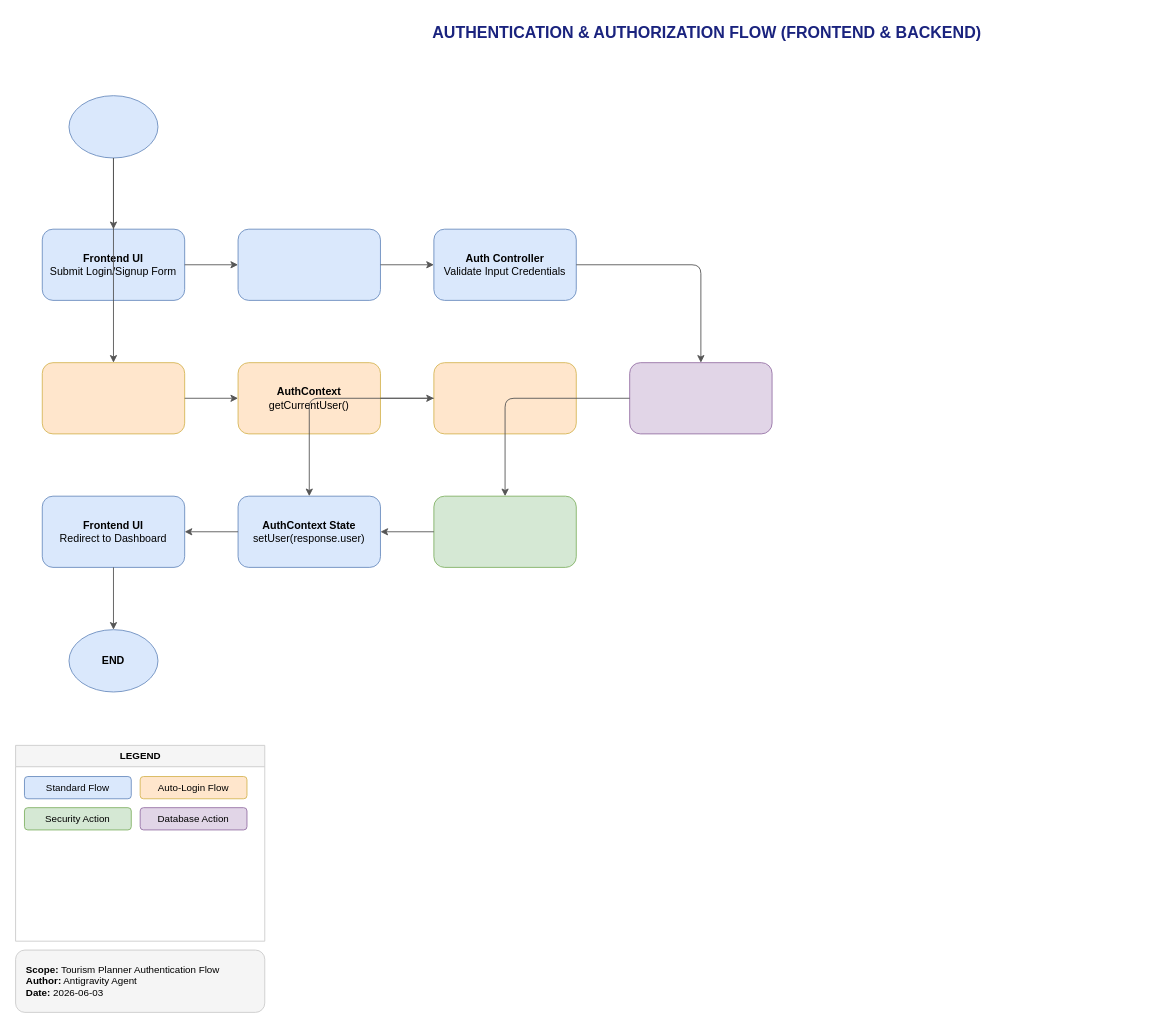
Image size: 1168x1028. Some labels were removed from this diagram. The centre of each missing label's shape, as x and y in pixels:
"Auth Controller Generate JWT Tokens & Set HTTP-Only Cookies" belongs at point 504,531.
"Auth Controller Return req.user via Middleware" belongs at point 504,398.
"AuthContext Calls authService API" belongs at point 308,264.
"Frontend UI App Load (useEffect)" belongs at point 113,398.
"MongoDB Find/Create User & Verify Password (bcrypt)" belongs at point 700,398.
"START" belongs at point 113,126.
